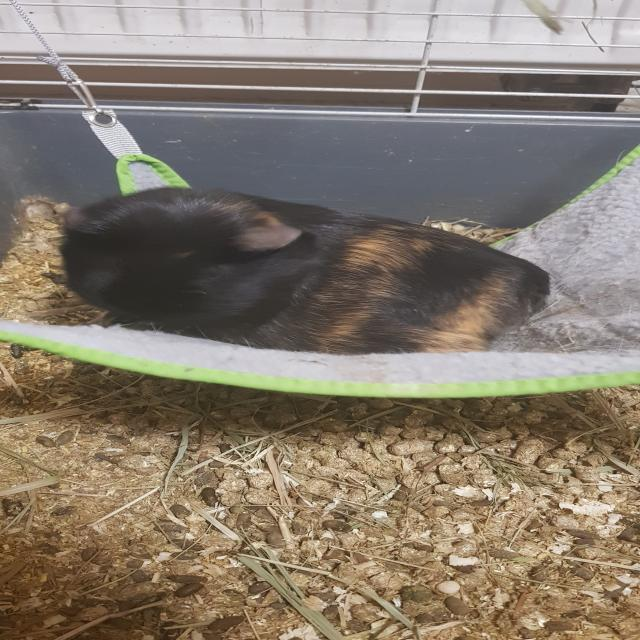guinea pig: (54, 182, 559, 358)
